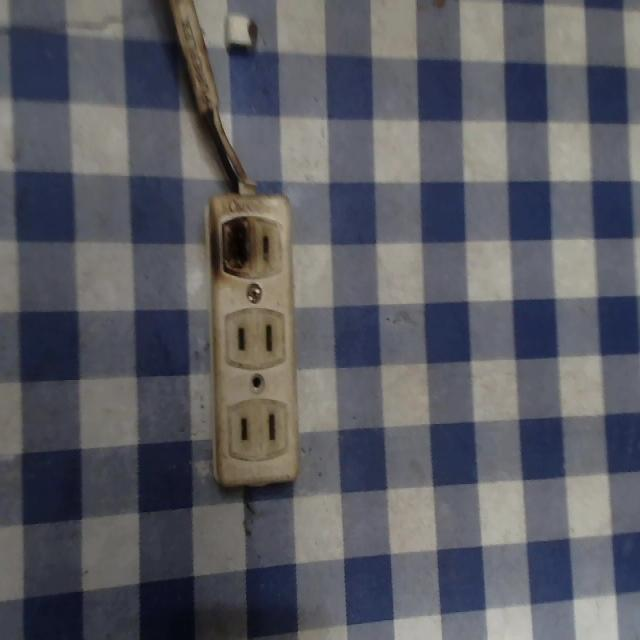-: (214, 210, 260, 278)
